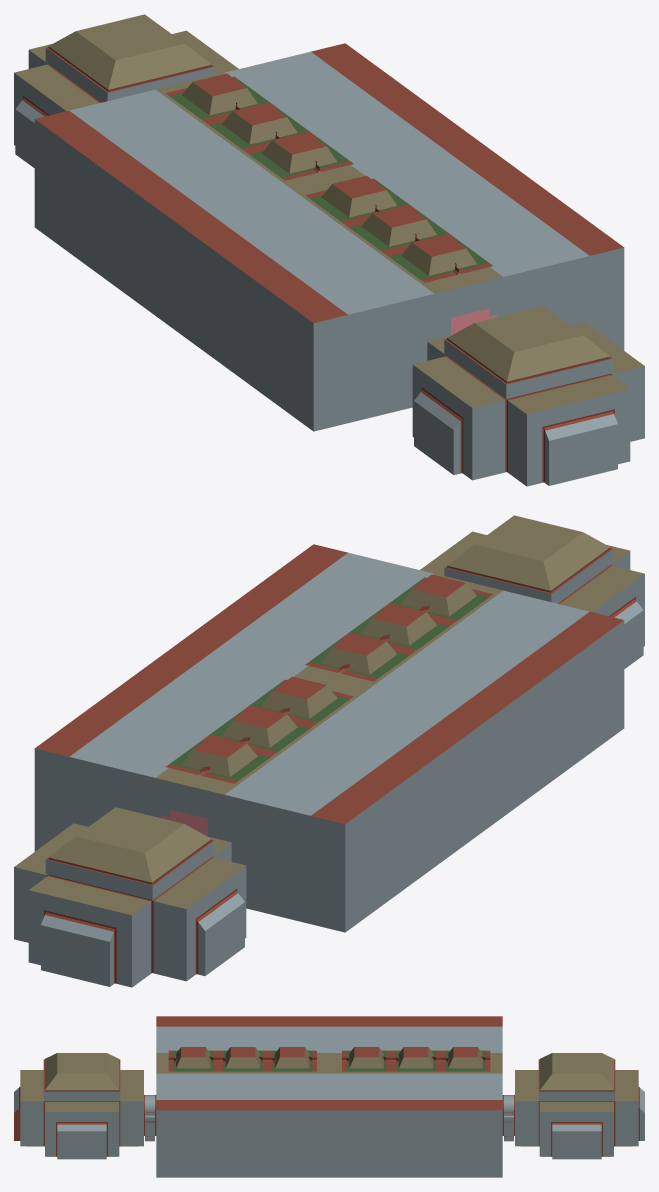
Rendered from Dragonfly_Crusher.fbx.
3 renders of one model, top to bottom at view 1: azimuth 30°, elevation 25°; view 2: azimuth 150°, elevation 25°; view 3: azimuth 270°, elevation 25°, orthographic. The views are drawn at different scales.
Visible parts, largest first — view 1: Core_Geometry, CrushRoomDoor_Left, CrushRoomDoor_Right; view 2: Core_Geometry, CrushRoomDoor_Left, CrushRoomDoor_Right; view 3: Core_Geometry, CrushRoomDoor_Right, CrushRoomDoor_Left.
Part boxes in pixels (<box>): Core_Geometry: <box>14,14,644,486</box>; CrushRoomDoor_Left: <box>165,79,458,282</box>; CrushRoomDoor_Right: <box>232,76,492,273</box>; Core_Geometry: <box>14,515,644,987</box>; CrushRoomDoor_Left: <box>200,589,493,783</box>; CrushRoomDoor_Right: <box>166,577,429,774</box>; Core_Geometry: <box>14,1016,644,1177</box>; CrushRoomDoor_Right: <box>168,1056,490,1071</box>; CrushRoomDoor_Left: <box>168,1050,490,1060</box>.
Bounding box in the file's own units: 36 × 18.4 × 102.
